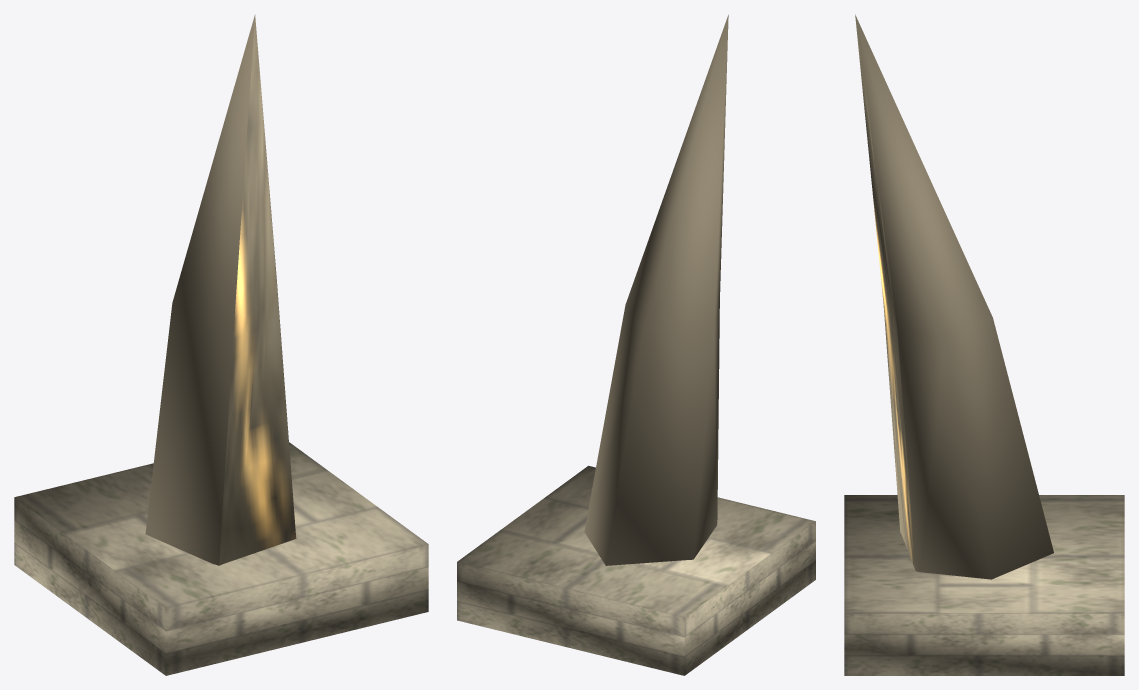
File: prop_lore_fragment_shard_lod2.glb
The picture shows the model from 3 angles, left to right: view 1: azimuth 30°, elevation 25°; view 2: azimuth 150°, elevation 25°; view 3: azimuth 270°, elevation 25°; orthographic projection. The views are drawn at different scales.
Parts seen in each view (by area): view 1: lore_fragment_shard_lod2; view 2: lore_fragment_shard_lod2; view 3: lore_fragment_shard_lod2.
Part boxes in pixels (x1,y1,x2,y2): lore_fragment_shard_lod2: [14, 14, 428, 675]; lore_fragment_shard_lod2: [457, 14, 815, 675]; lore_fragment_shard_lod2: [844, 14, 1124, 675].
Size of the model in its own units: 0.13 by 0.3 by 0.13.
Materials: 1 (1 with a texture image).
